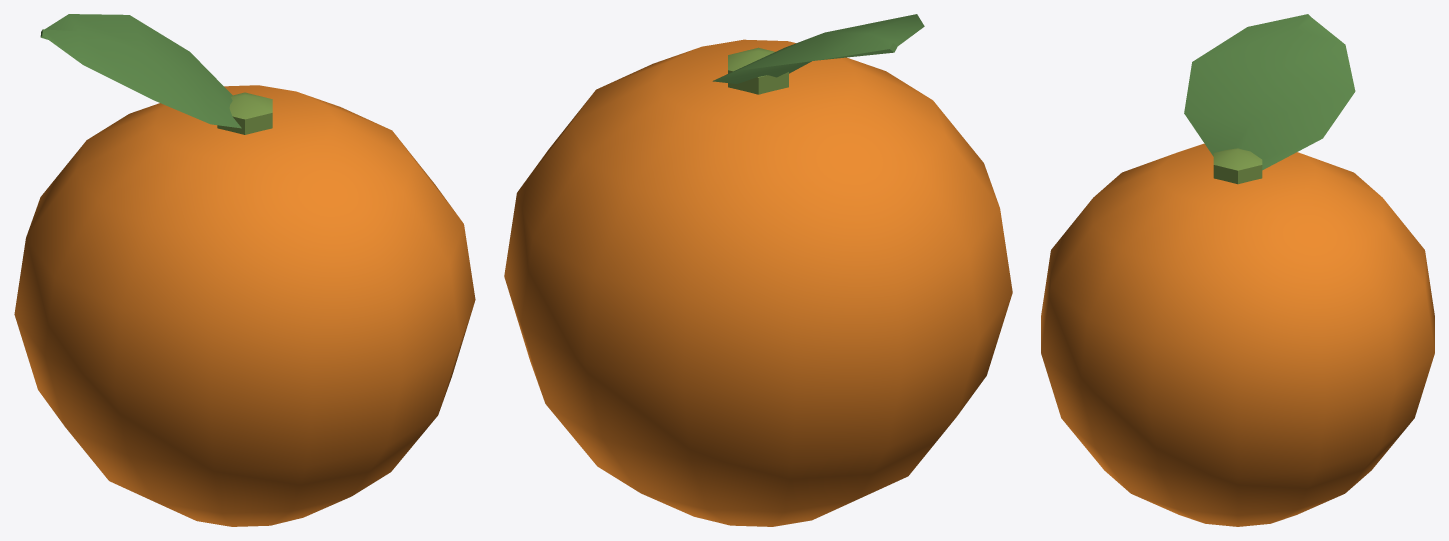
Rendered from fruit_orange.glb.
The picture shows the model from 3 angles, left to right: view 1: azimuth 30°, elevation 25°; view 2: azimuth 150°, elevation 25°; view 3: azimuth 270°, elevation 25°; orthographic projection. The views are drawn at different scales.
Visible parts, largest first — view 1: fruit_orange; view 2: fruit_orange; view 3: fruit_orange.
Boxes of the visible parts, x1,y1,x2,y2 form: fruit_orange: (14,14,475,526); fruit_orange: (504,14,1012,526); fruit_orange: (1041,14,1434,526).
Bounding box in the file's own units: 0.1 × 0.1162 × 0.0975.
